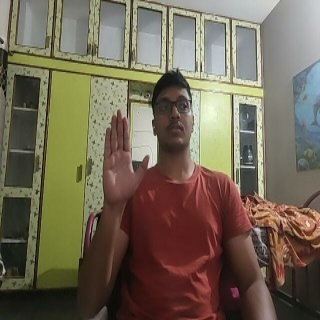Face: (149, 68, 200, 154)
Hello: (99, 109, 150, 206)
